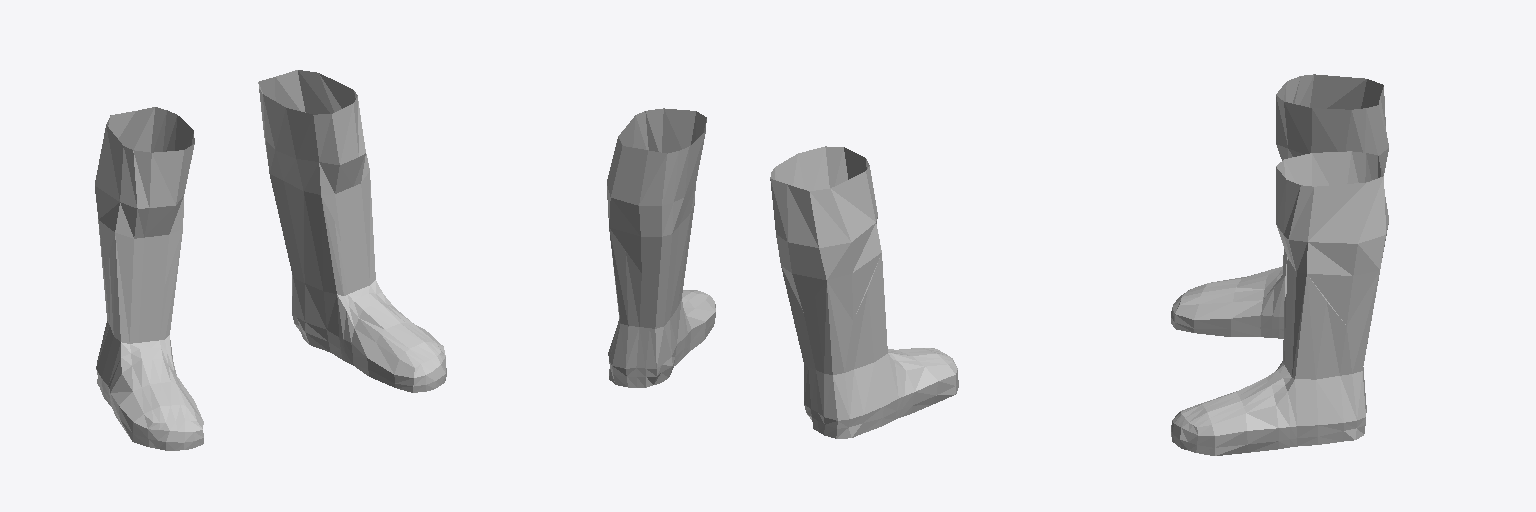
Rendered from Boots.obj.
3 renders of one model, left to right at view 1: azimuth 30°, elevation 25°; view 2: azimuth 150°, elevation 25°; view 3: azimuth 270°, elevation 25°, orthographic.
Visible parts, largest first — view 1: pCube1; view 2: pCube1; view 3: pCube1.
Part boxes in pixels (x1,y1,x2,y2): pCube1: (95,70,446,450); pCube1: (607,108,958,438); pCube1: (1171,74,1388,455).
Size of the model in its own units: 30.15 by 23.26 by 18.31.